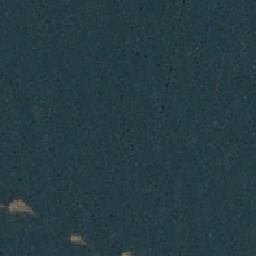debris: (6, 197, 32, 214), (68, 234, 87, 245), (118, 250, 135, 256)
